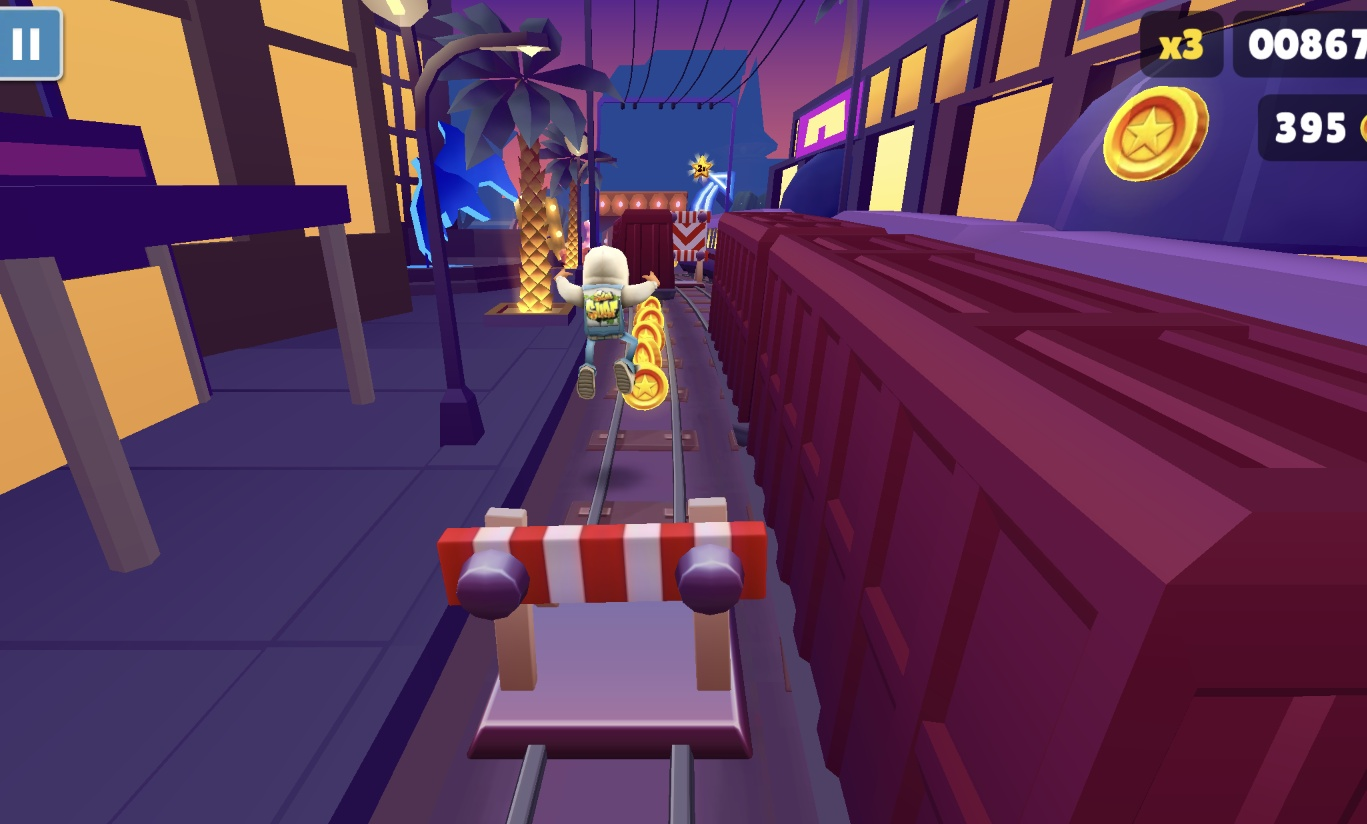ground_barrier: (437, 498, 768, 761)
overhead_barrier: (670, 209, 714, 285)
train: (708, 210, 1367, 824), (712, 208, 1367, 338), (612, 209, 678, 297)
